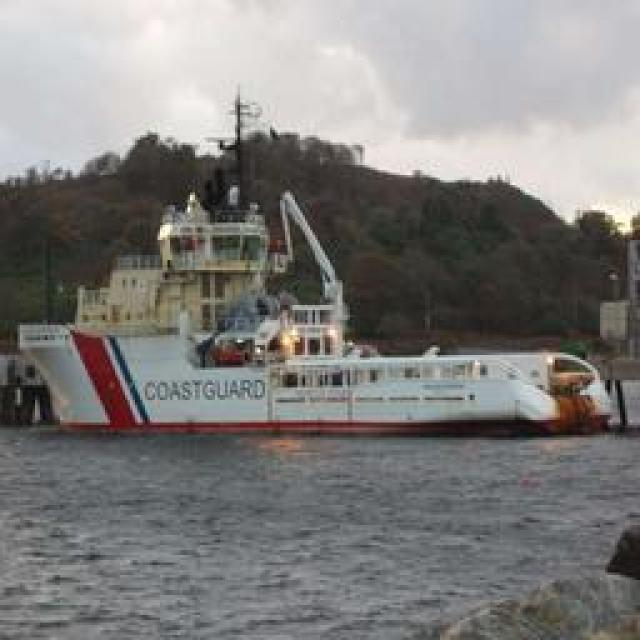CIV_Ship: (18, 278, 620, 442)
